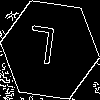L: (25, 25, 57, 75)
